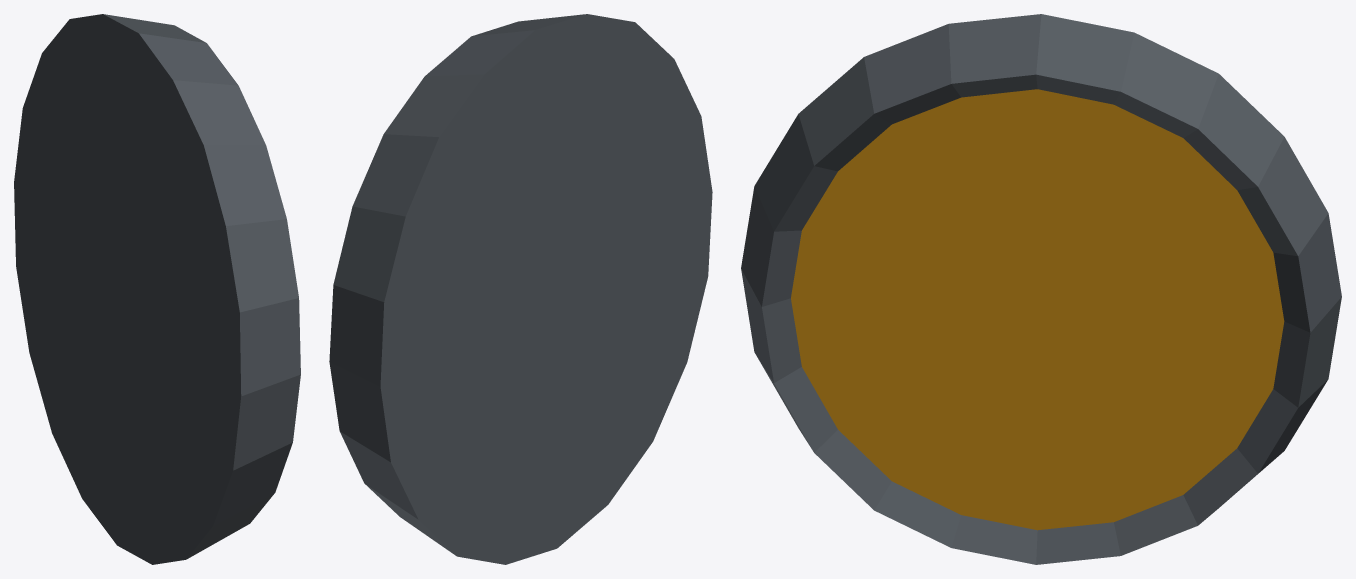
File: Dropship_04_Artillery_Mount_Yellow.fbx
3 views of the same model, side by side, from view 1: azimuth 30°, elevation 25°; view 2: azimuth 150°, elevation 25°; view 3: azimuth 270°, elevation 25° (orthographic). The views are drawn at different scales.
Parts seen in each view (by area): view 1: Dropship_04_Artillery_Mount_Yellow; view 2: Dropship_04_Artillery_Mount_Yellow; view 3: Dropship_04_Artillery_Mount_Yellow.
Part boxes in pixels (x1,y1,x2,y2): Dropship_04_Artillery_Mount_Yellow: (14,14,300,564); Dropship_04_Artillery_Mount_Yellow: (329,14,712,564); Dropship_04_Artillery_Mount_Yellow: (741,14,1341,564).
Bounding box in the file's own units: 50.68 × 206 × 205.
1 material, 1 textured.
